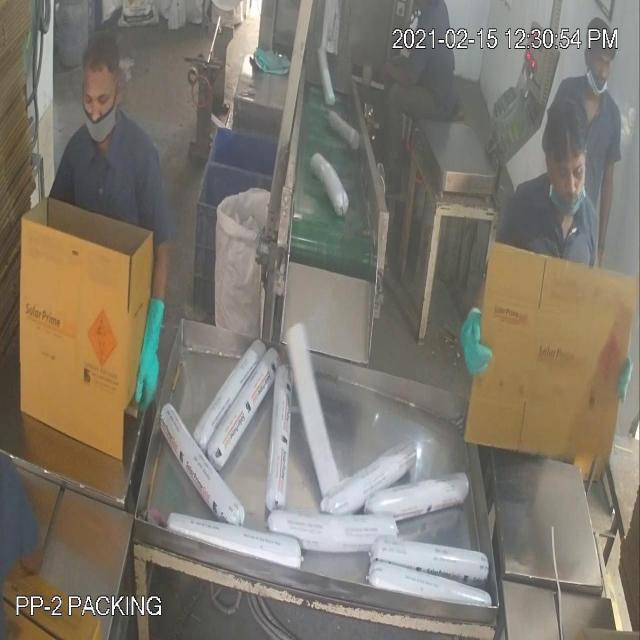Gloves: (34, 89, 602, 348)
